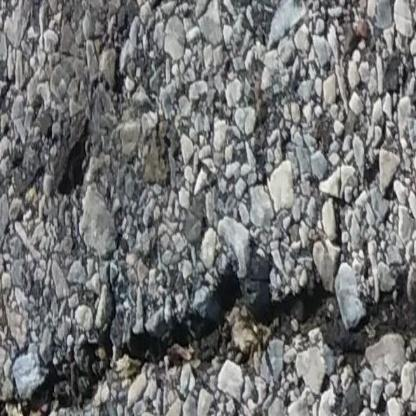Cracks: (0, 257, 416, 416)
